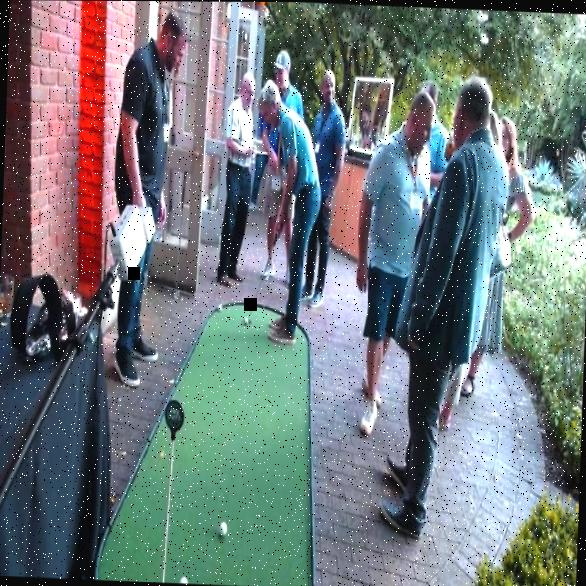GolfBall: (212, 514, 232, 541), (171, 569, 191, 584), (213, 297, 226, 315), (241, 313, 253, 328)
